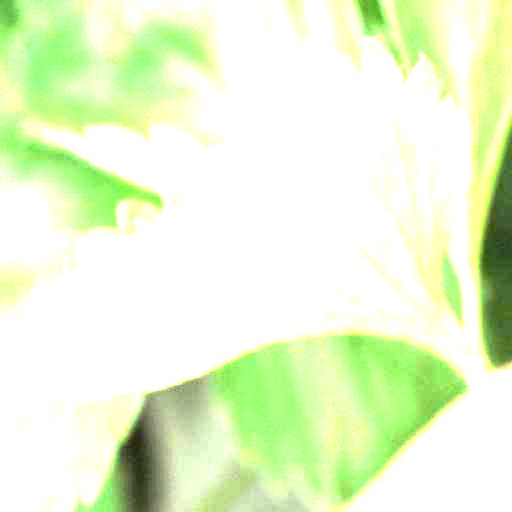Powdery Mildew Leaf: (0, 38, 468, 400)
